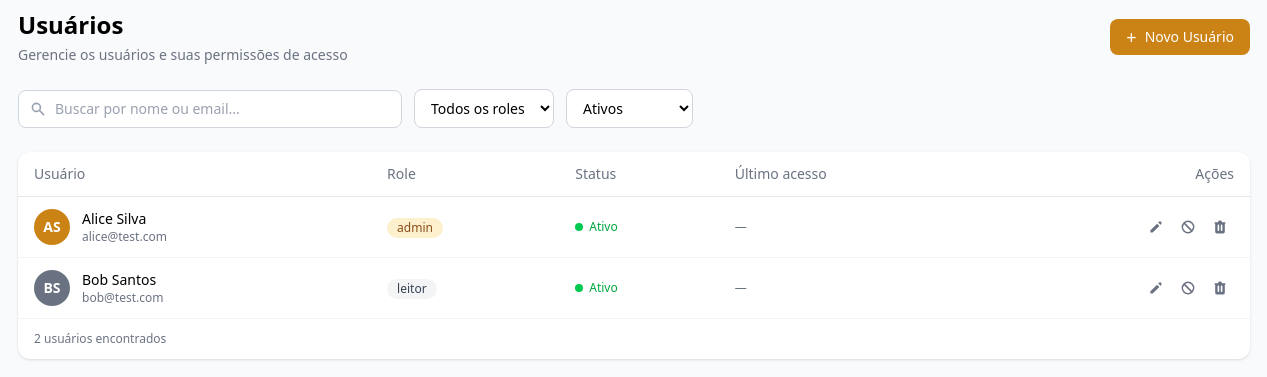
Test: UsuariosPage › search filter narrows displayed users
This screenshot has width=1267, height=377.
In the field with placeholder "Buscar por nome ou email...": (210, 108) [18, 90, 402, 128], type "alice"
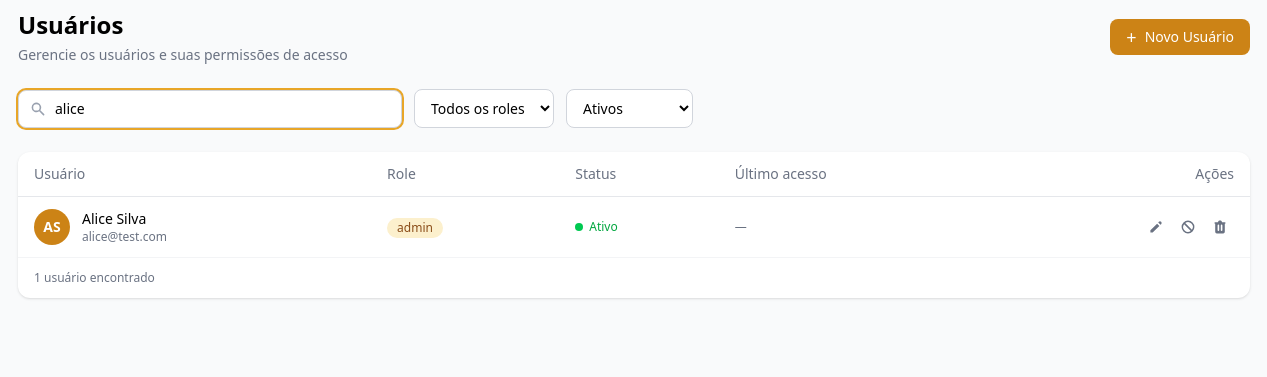
Expected: the text "Alice Silva" is shown, [82, 209, 146, 228]
Expected: the text "Bob Santos" is gone
